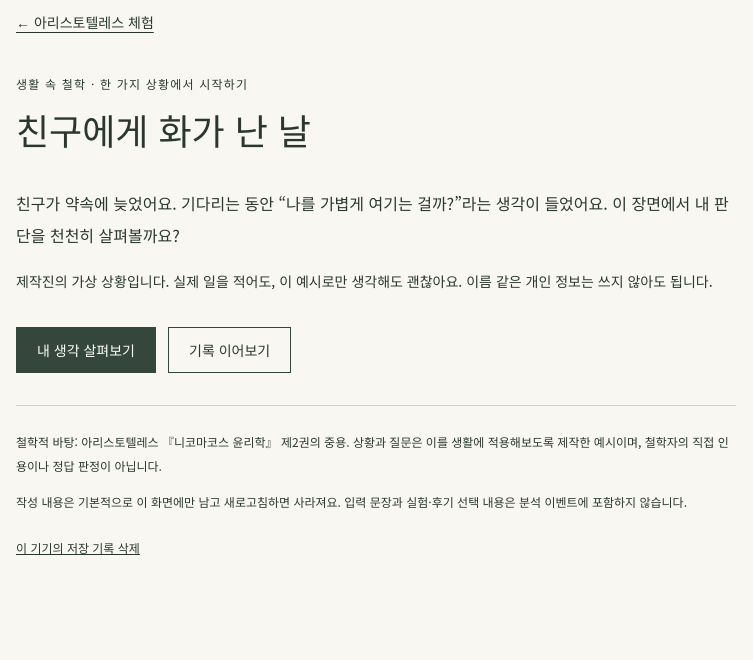
reports deletion failure without claiming success
Click the button "이 기기의 저장 기록 삭제". click: coordinates (78, 548)
box: [16,526,140,570]
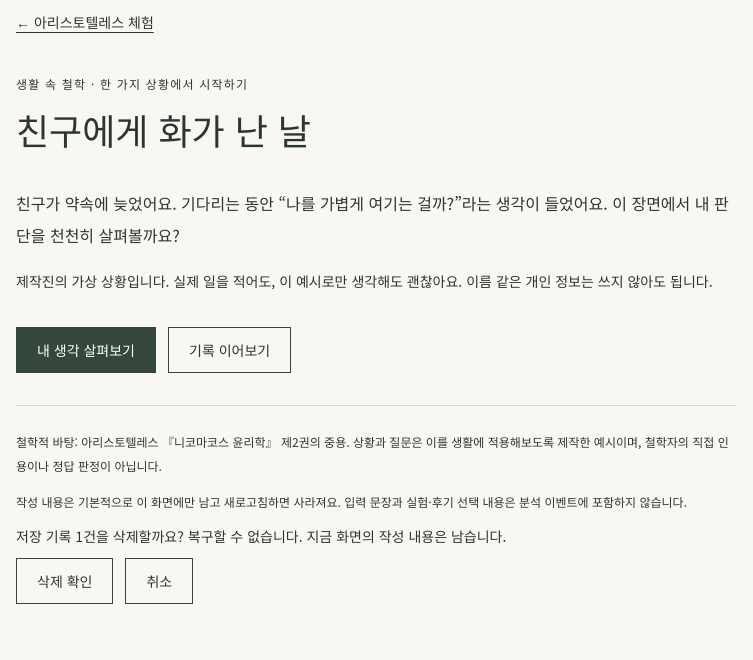
Click the button "삭제 확인". click: coordinates (65, 580)
box: [16,558,114,604]
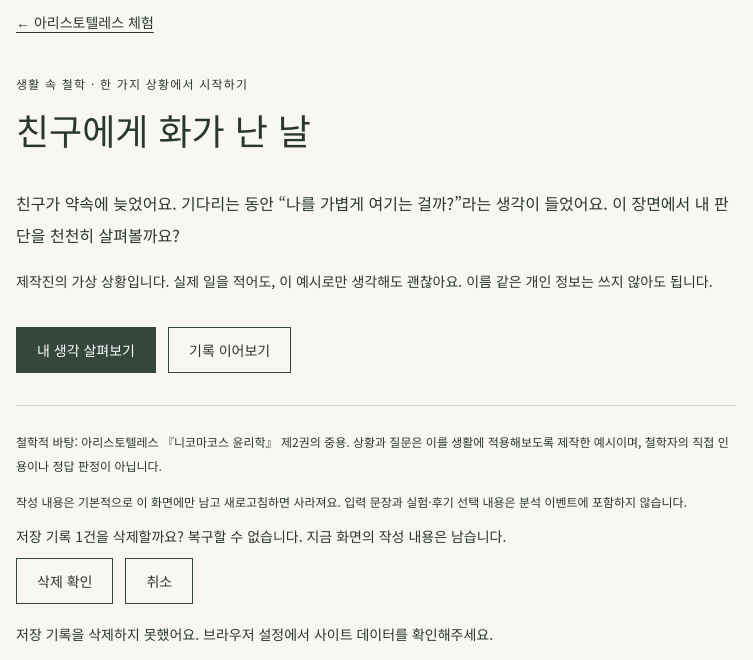
Result: the message shows "삭제하지 못했어요" at [16,624,493,644]
